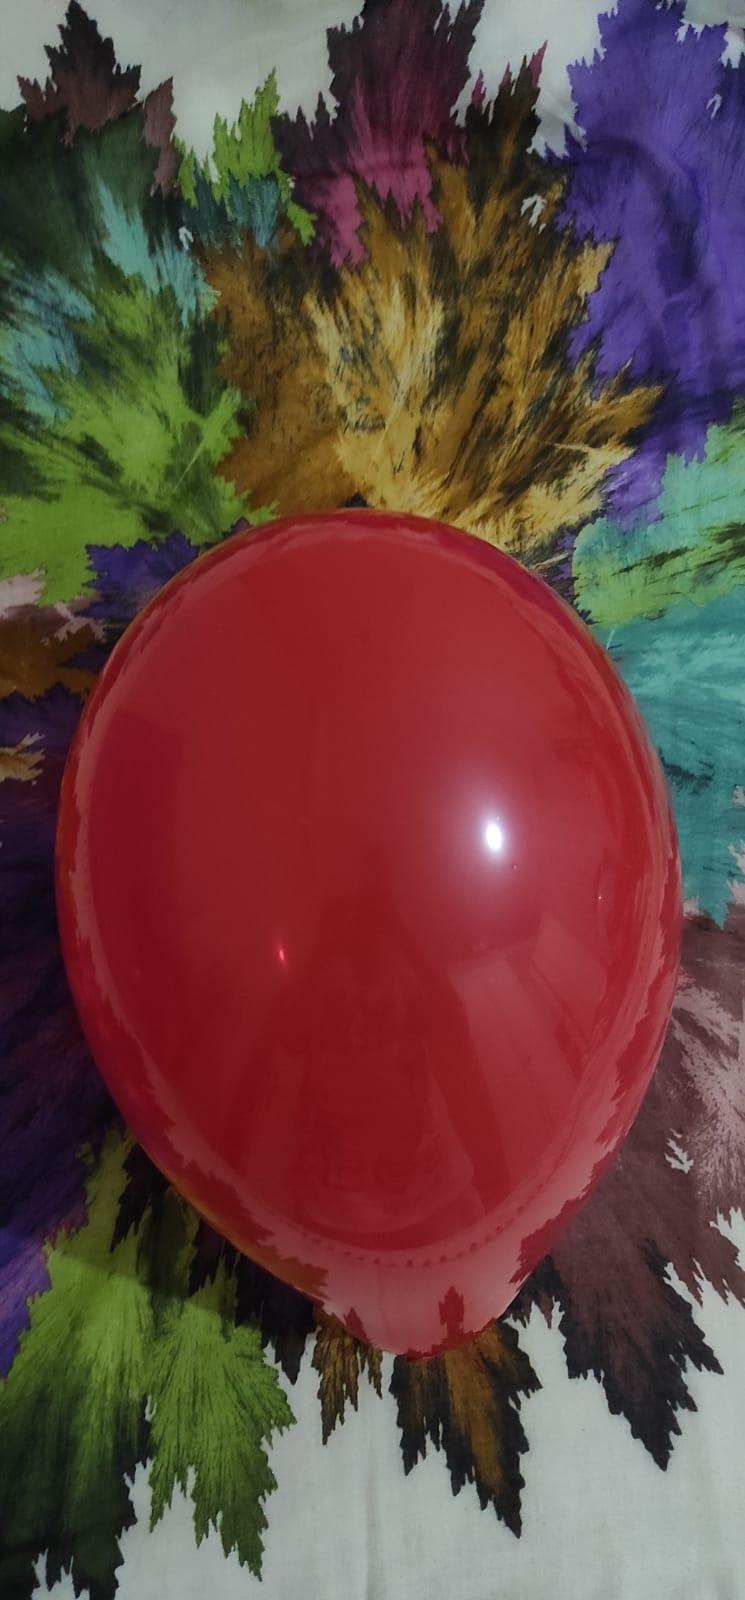red: (47, 497, 695, 1374)
